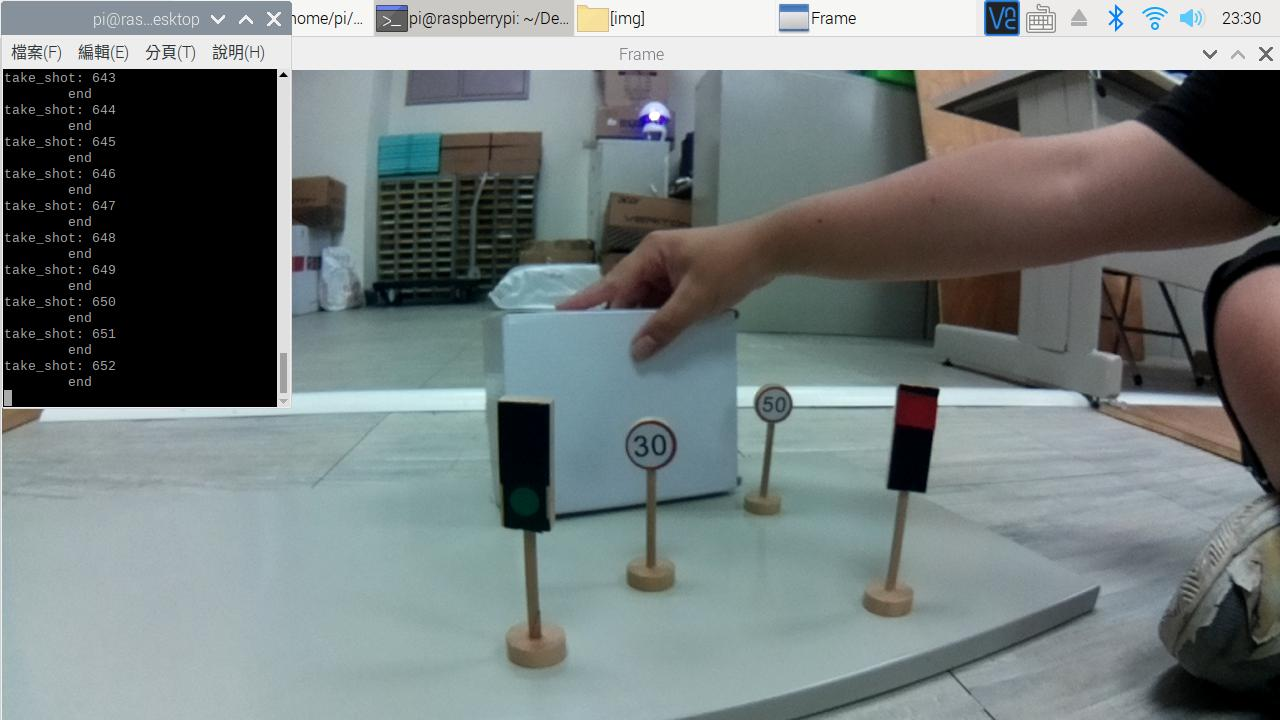Green: (477, 395, 568, 542)
Red: (877, 372, 953, 503)
Speed30: (613, 417, 699, 478)
Speed50: (746, 383, 801, 436)
